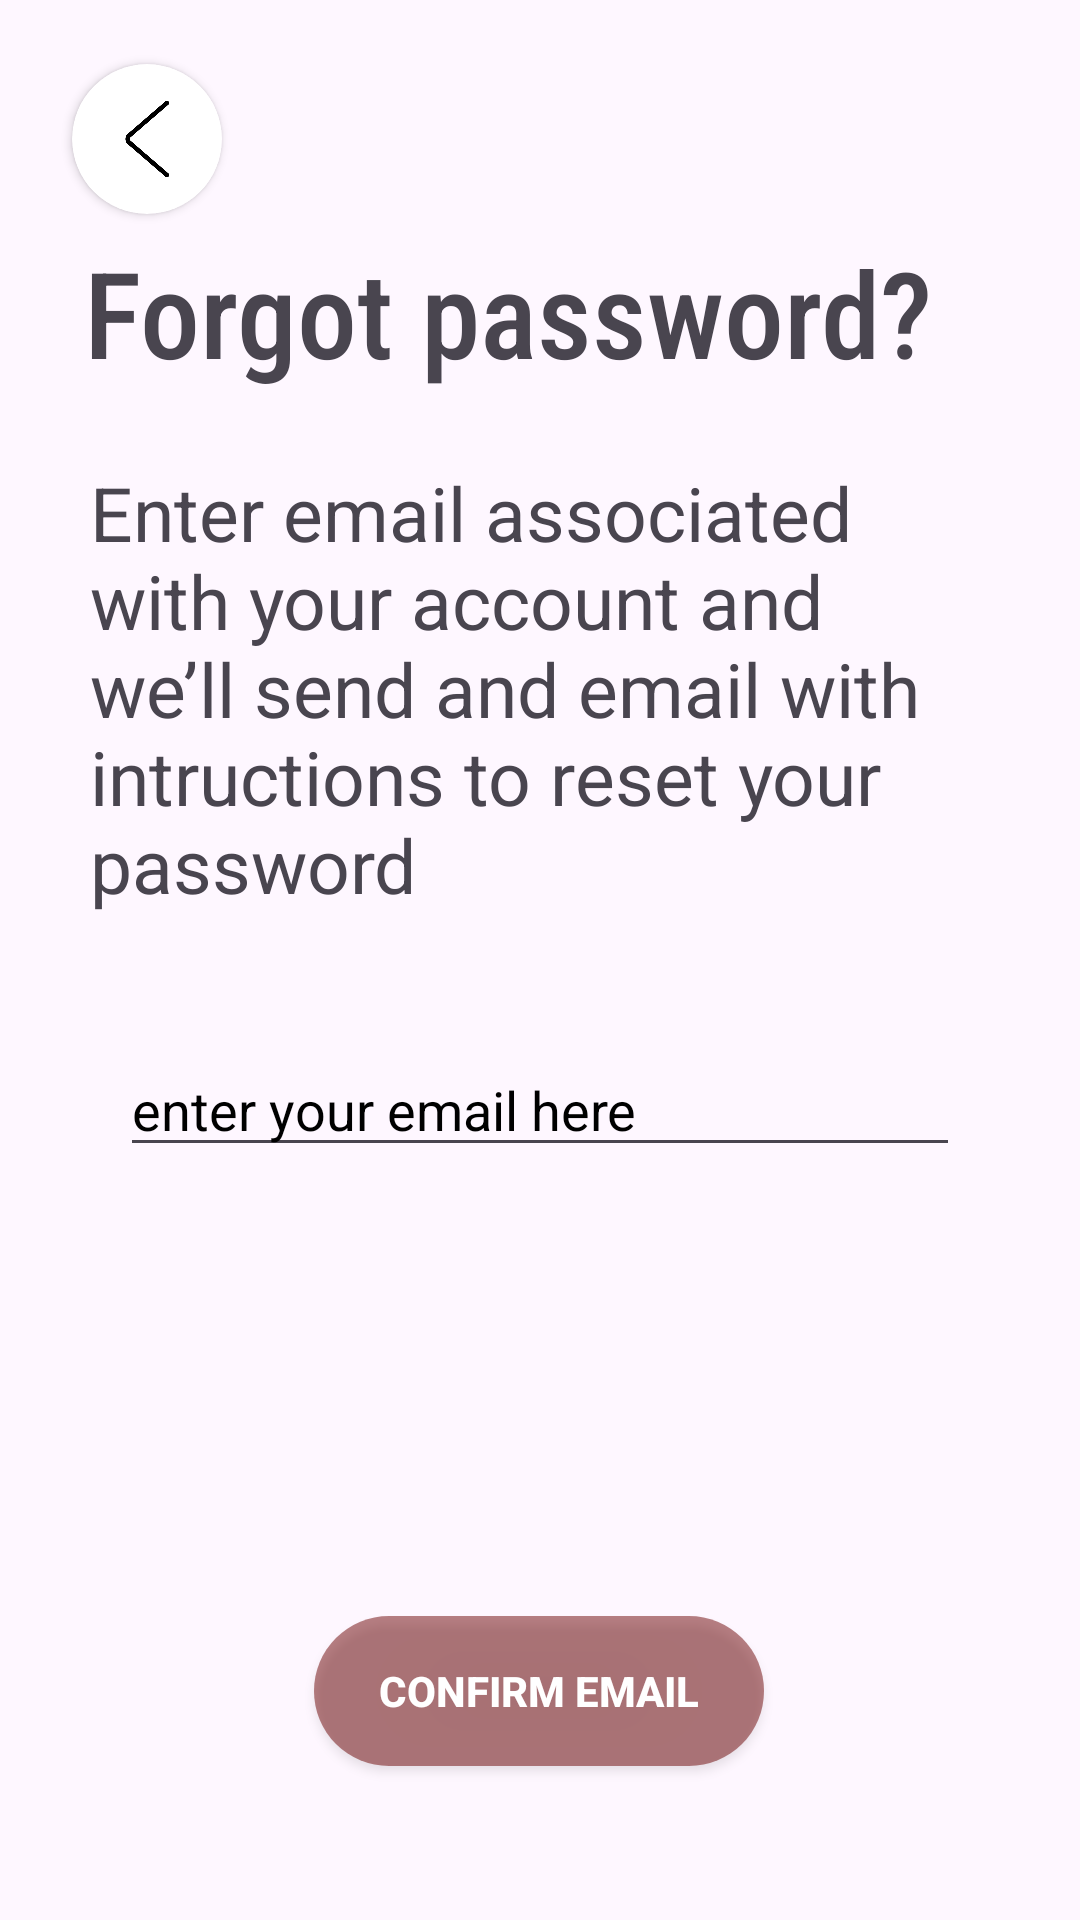

Icons on this 1080 × 1920 Android screen, each with the point to tap as (x,y):
left: (147,139)
